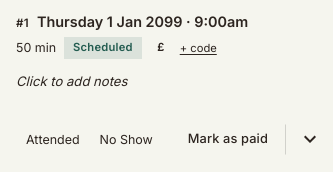
StubSessionCard — demo mode › blocks the paid toggle, shows the demo warning, and never touches the DB (happy path)
Click the button "Mark as paid" at (228, 139), box top-left (171, 124), bottom-right (285, 155)
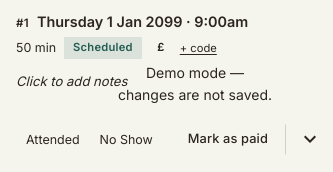
Result: the message shows "Demo mode" at top-left (118, 64), bottom-right (272, 103)
